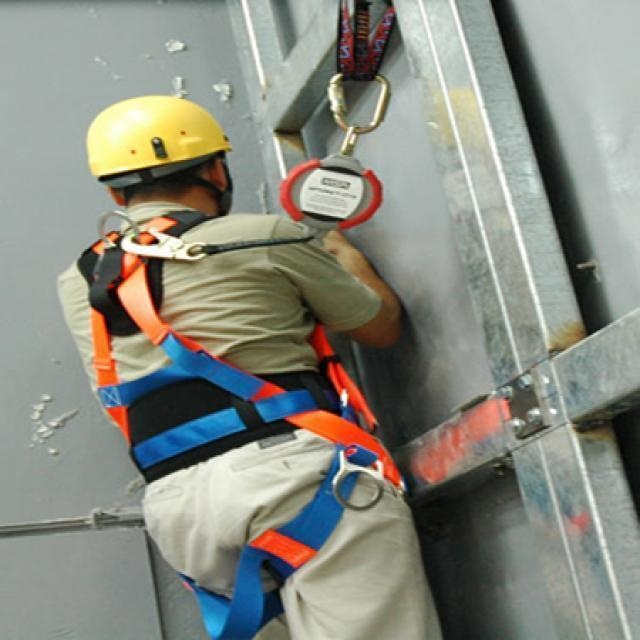Arnes_seguridad: (68, 203, 399, 640)
